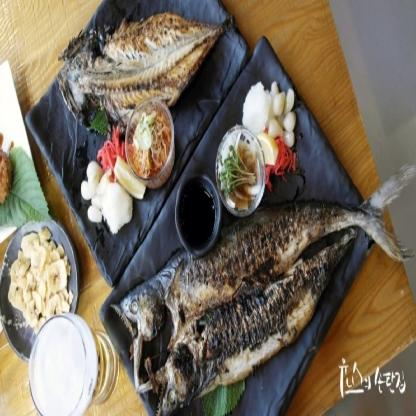Peixe: (121, 147, 412, 416), (51, 0, 223, 135)
